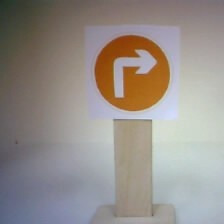right: (81, 25, 178, 118)
